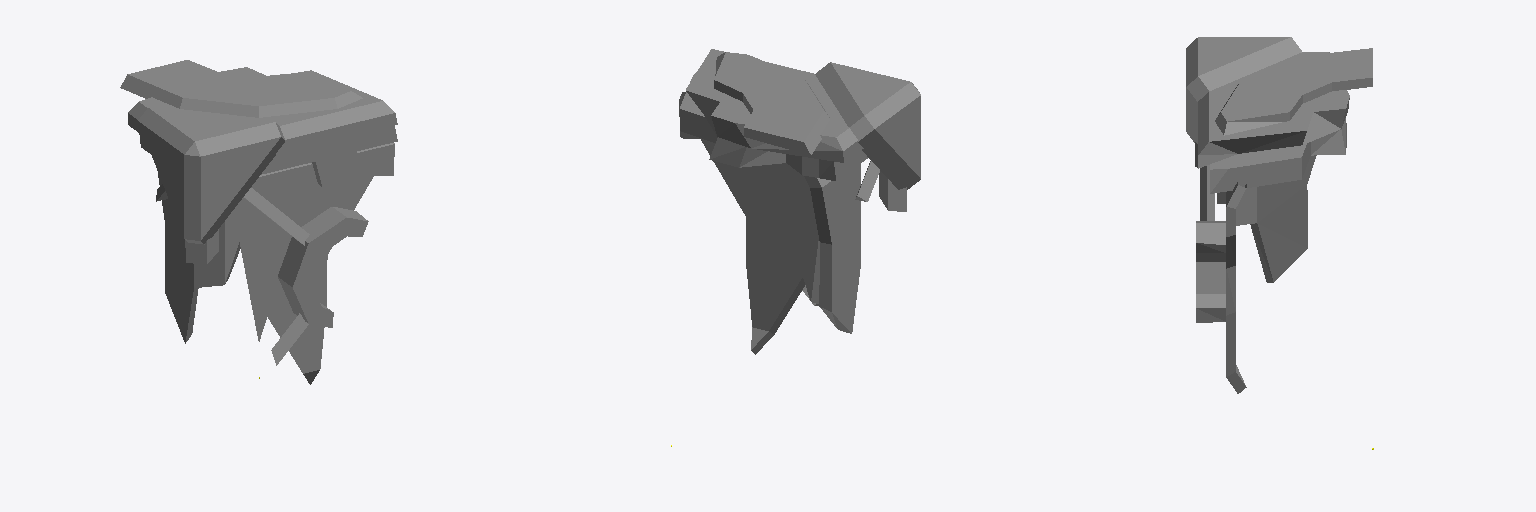
File: cpz_obj_breakbox_brk_008.obj
3 views of the same model, side by side, from view 1: azimuth 30°, elevation 25°; view 2: azimuth 150°, elevation 25°; view 3: azimuth 270°, elevation 25° (orthographic).
Visible parts, largest first — view 1: cpz_metal_yy_slop_cmn_dpn, cpz_glass_tn1_glasstube, ccp_metal_yy_circle_Cmn_dpn, cpz_yy1_road_cmn_dp, ccp_metal_yy_yelow_Cmn_dpn, cpz_metal_st1_tank01_cmn_dpnE; view 2: cpz_glass_tn1_glasstube, cpz_metal_yy_slop_cmn_dpn, ccp_metal_yy_circle_Cmn_dpn, cpz_yy1_road_cmn_dp, ccp_metal_yy_yelow_Cmn_dpn; view 3: cpz_metal_yy_slop_cmn_dpn, cpz_glass_tn1_glasstube, ccp_metal_yy_circle_Cmn_dpn, cpz_yy1_road_cmn_dp.
Part boxes in pixels (left/top/right/bottom): cpz_metal_yy_slop_cmn_dpn: left=128, top=67, right=397, bottom=244; cpz_glass_tn1_glasstube: left=158, top=143, right=394, bottom=384; ccp_metal_yy_circle_Cmn_dpn: left=128, top=60, right=367, bottom=327; cpz_yy1_road_cmn_dp: left=120, top=74, right=368, bottom=365; ccp_metal_yy_yelow_Cmn_dpn: left=139, top=125, right=397, bottom=174; cpz_metal_st1_tank01_cmn_dpnE: left=312, top=152, right=356, bottom=186; cpz_glass_tn1_glasstube: left=679, top=92, right=860, bottom=354; cpz_metal_yy_slop_cmn_dpn: left=680, top=49, right=920, bottom=305; ccp_metal_yy_circle_Cmn_dpn: left=714, top=52, right=823, bottom=141; cpz_yy1_road_cmn_dp: left=714, top=52, right=906, bottom=305; ccp_metal_yy_yelow_Cmn_dpn: left=819, top=150, right=867, bottom=180; cpz_metal_yy_slop_cmn_dpn: left=1186, top=37, right=1349, bottom=190; cpz_glass_tn1_glasstube: left=1226, top=155, right=1316, bottom=393; ccp_metal_yy_circle_Cmn_dpn: left=1221, top=48, right=1372, bottom=121; cpz_yy1_road_cmn_dp: left=1195, top=78, right=1372, bottom=322.
Size of the model in its own units: 50.08 by 72.07 by 36.14.